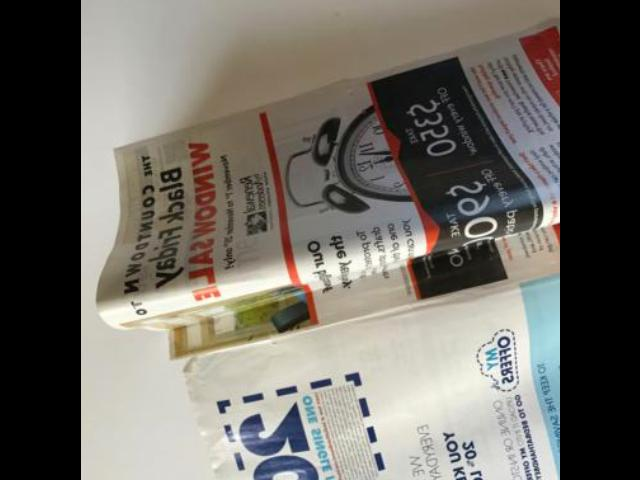cardboard paper: (97, 14, 559, 360), (188, 278, 560, 480)
